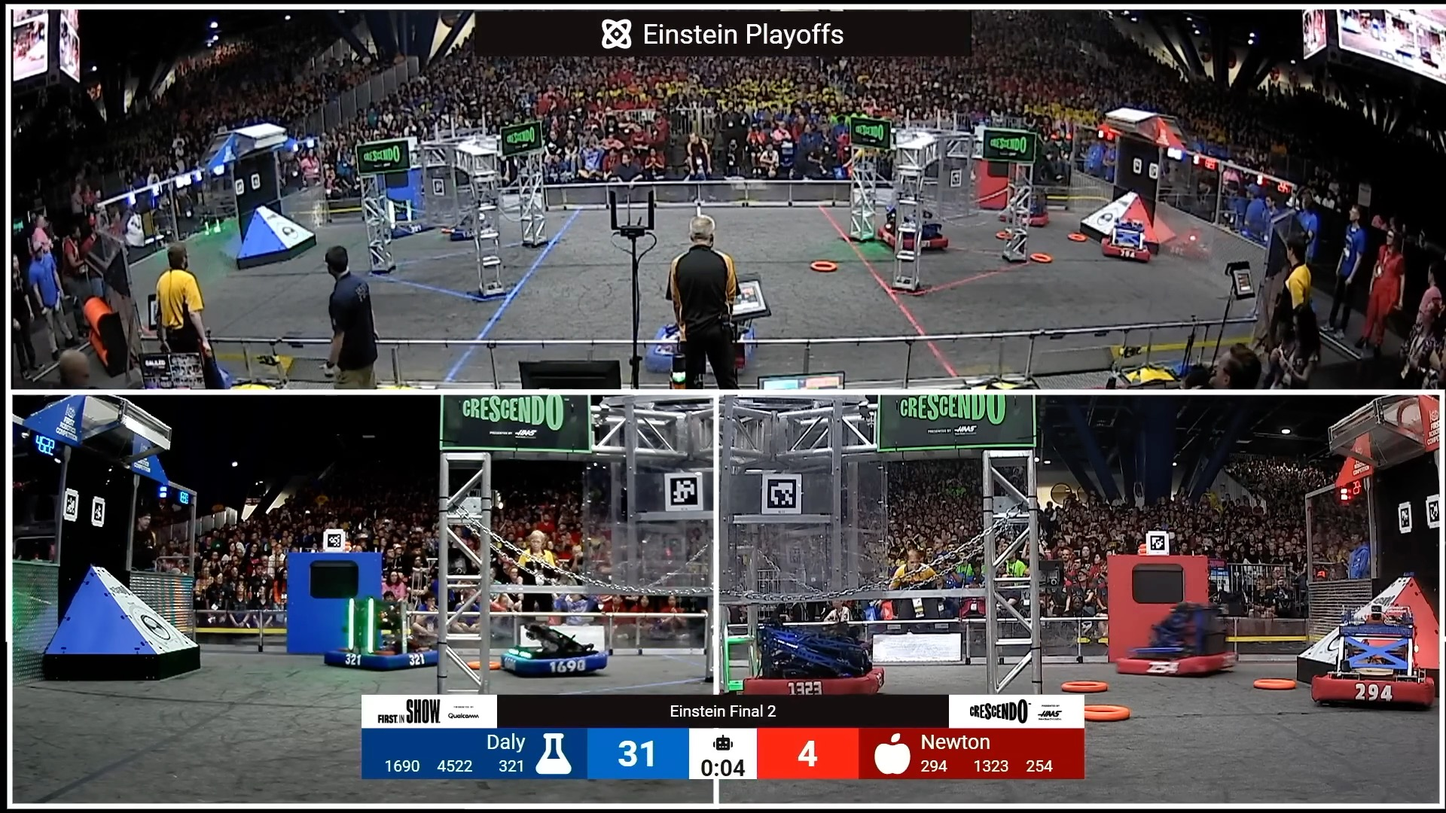bumpers: (1109, 645, 1244, 689), (1304, 671, 1440, 707), (737, 665, 893, 696), (497, 647, 613, 682), (323, 645, 438, 674), (362, 216, 446, 244), (1095, 232, 1158, 264), (875, 228, 954, 253), (448, 228, 500, 241)
